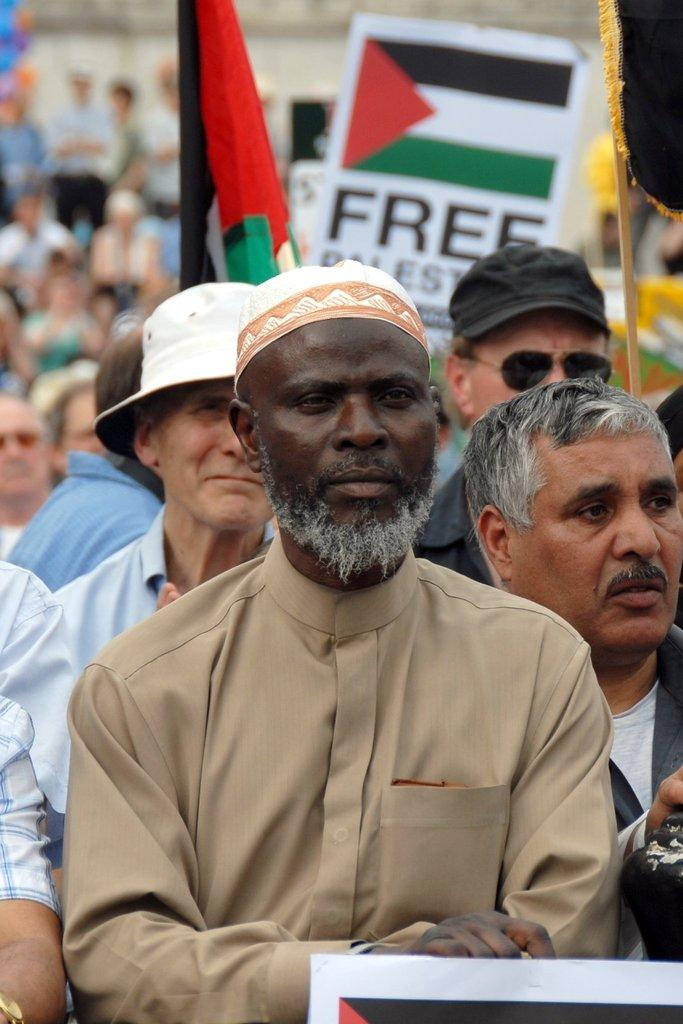Hat: (95, 280, 242, 464), (448, 240, 608, 334)
